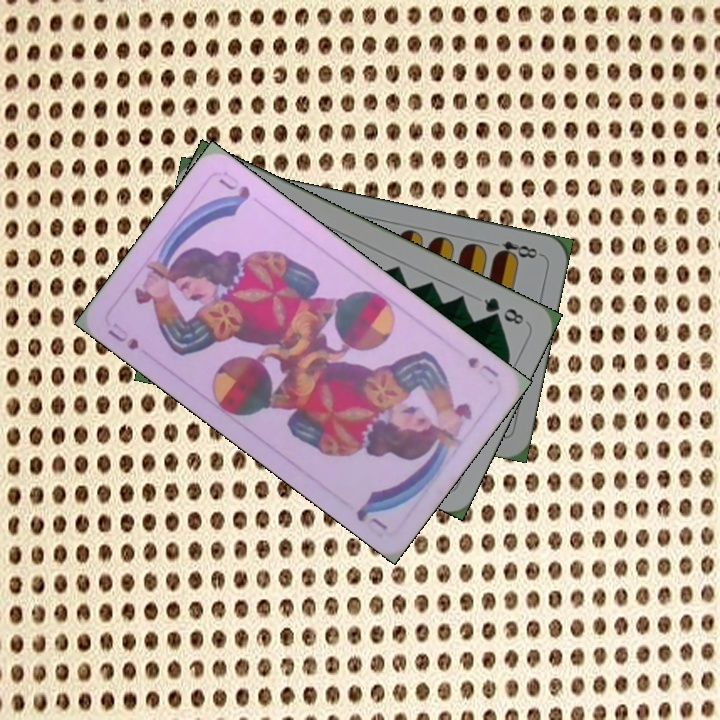E8: (485, 236, 543, 263)
G8: (479, 293, 527, 327)
SU: (463, 352, 502, 385), (103, 325, 142, 353)
